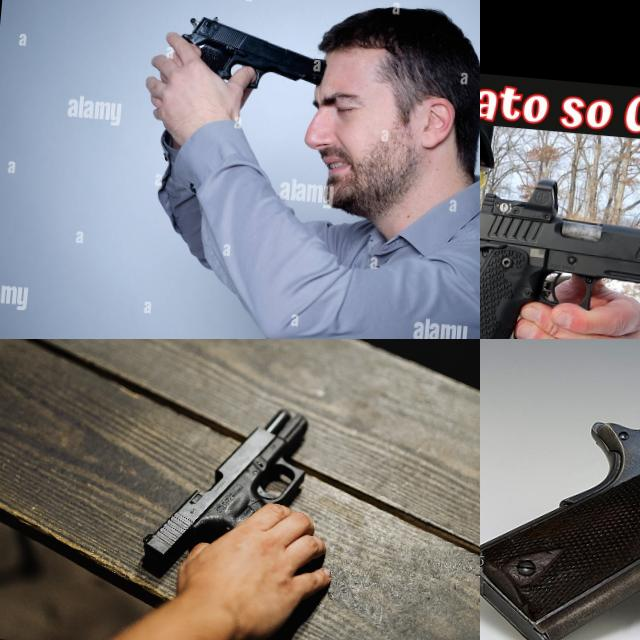handgun: (480, 363, 640, 640), (136, 392, 316, 582), (480, 166, 640, 339), (174, 11, 332, 97)
